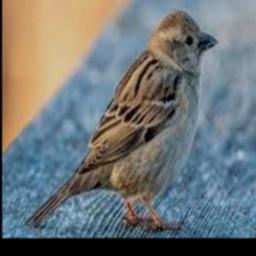Sparrow: (26, 9, 218, 230)
